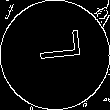L_W: (28, 37, 82, 73)
